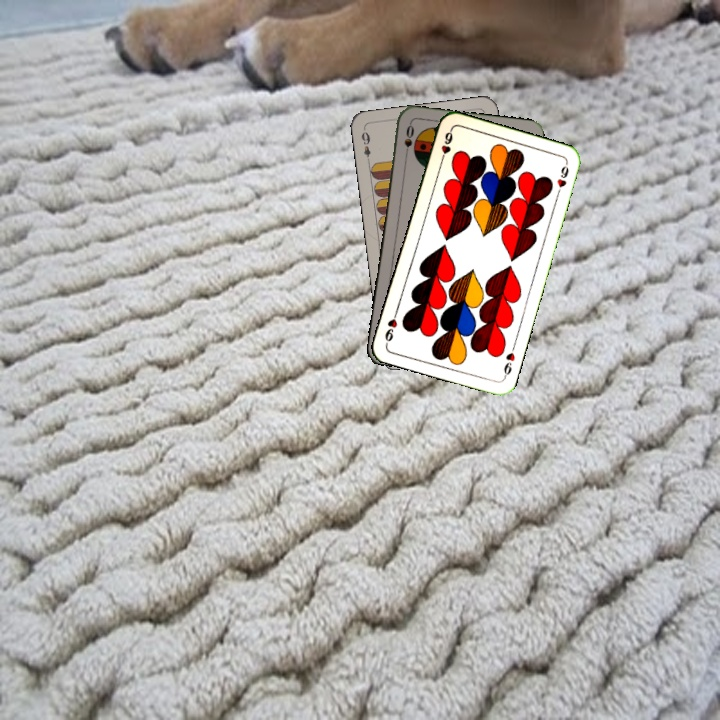E9: (357, 128, 373, 166)
H9: (436, 126, 455, 166), (500, 348, 518, 381)
SO: (400, 120, 417, 161)
